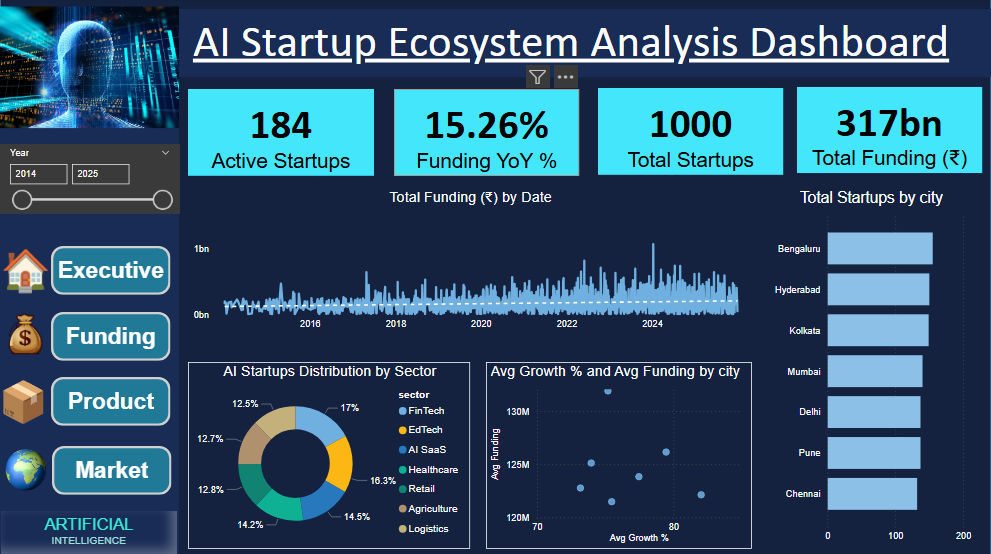

The page's visual inventory and layout, read from the dashboard file:
{"tool":"powerbi","page":{"name":"Executive Overview","canvas":[1280,720],"ordinal":1},"visuals":[{"type":"shape","box":[0,0,1278.9,721.1],"z":0},{"type":"actionButton","box":[65.7,491.4,154.3,62.9],"z":0,"group":"g2"},{"type":"group","id":"g1","title":"Group 4","box":[5.7,571.5,214.3,77.1],"z":0,"group":"g4"},{"type":"actionButton","box":[65.7,578.6,154.3,62.9],"z":0,"group":"g1"},{"type":"textbox","box":[194.6,16.1,1083.9,87.5],"z":1000},{"type":"image","box":[2.2,313.3,61.4,78.6],"z":1000,"group":"g4"},{"type":"image","box":[0,485.7,60,74.3],"z":1000,"group":"g2"},{"type":"image","box":[5.7,571.5,54.3,77.1],"z":1000,"group":"g1"},{"type":"shape","box":[0,15.5,231,705.2],"z":2000},{"type":"card","fields":{"Values":["measure.Active Startups"]},"box":[243.1,119,239.7,112.1],"z":3000},{"type":"card","fields":{"Values":["measure.Funding YoY %"]},"box":[507.9,119,239,112.1],"z":4000},{"type":"card","fields":{"Values":["measure.Total Startups"]},"box":[772.1,117.2,239,112.1],"z":5000},{"type":"card","fields":{"Values":["measure.Total Funding (₹)"]},"box":[1028.2,116.6,239,110.9],"z":6000},{"type":"lineChart","fields":{"Y":["measure.Total Funding (₹)"],"Category":["Date.Date.Variation.Date Hierarchy.Year"]},"box":[243.3,248.3,726.7,190],"z":7000},{"type":"clusteredBarChart","fields":{"Y":["measure.Total Startups"],"Category":["AI_Startups.city"]},"box":[989.2,247.7,269.3,463.2],"z":8000},{"type":"donutChart","title":"AI Startups Distribution by Sector","fields":{"Category":["AI_Startups.sector"],"Y":["CountNonNull(AI_Startups.startup_name)"]},"box":[242.4,470.6,364.3,240.9],"z":9000},{"type":"image","box":[0,5.2,231,170.7],"z":10000},{"type":"slicer","fields":{"Values":["Date.Year"]},"box":[0,189.7,231,89.7],"z":11000},{"type":"scatterChart","fields":{"Category":["AI_Startups.city"],"X":["measure.Avg Growth %"],"Y":["measure.Avg Funding"]},"box":[626.5,470.4,342.9,240.6],"z":12000},{"type":"actionButton","box":[65.7,321.4,154.3,62.9],"z":13000},{"type":"group","id":"g2","title":"Group 1","box":[0,485.7,220,74.3],"z":14000},{"type":"actionButton","box":[65.7,407.1,154.3,62.9],"z":14004,"group":"g3"},{"type":"image","box":[0,390,65.7,90],"z":14010,"group":"g3"},{"type":"group","id":"g3","title":"Group 2","box":[0,390,220,90],"z":15000},{"type":"group","id":"g4","title":"Group 3","box":[2.2,313.3,217.8,335.3],"z":16000},{"type":"textbox","box":[1,663.3,226.7,56.7],"z":17000}]}

Visuals, with their boxes in screenshot pixels (x1, y1, x2, y2), scaled from the page's 1280x720 canvas onto the 991x554 screenshot:
shape: [0,0,990,553]
actionButton: [51,378,170,427]
"Group 4" group: [4,440,170,499]
actionButton: [51,445,170,494]
textbox: [151,12,990,80]
image: [2,241,49,302]
image: [0,374,46,431]
image: [4,440,46,499]
shape: [0,12,179,553]
card - measure.Active Startups: [188,92,374,178]
card - measure.Funding YoY %: [393,92,578,178]
card - measure.Total Startups: [598,90,783,176]
card - measure.Total Funding (₹): [796,90,981,175]
lineChart - measure.Total Funding (₹) x Date.Date.Variation.Date Hierarchy.Year: [188,191,751,337]
clusteredBarChart - measure.Total Startups x AI_Startups.city: [766,191,974,547]
"AI Startups Distribution by Sector" donutChart: [188,362,470,547]
image: [0,4,179,135]
slicer - Date.Year: [0,146,179,215]
scatterChart - AI_Startups.city x measure.Avg Growth %: [485,362,751,547]
actionButton: [51,247,170,296]
"Group 1" group: [0,374,170,431]
actionButton: [51,313,170,362]
image: [0,300,51,369]
"Group 2" group: [0,300,170,369]
"Group 3" group: [2,241,170,499]
textbox: [1,510,176,553]
